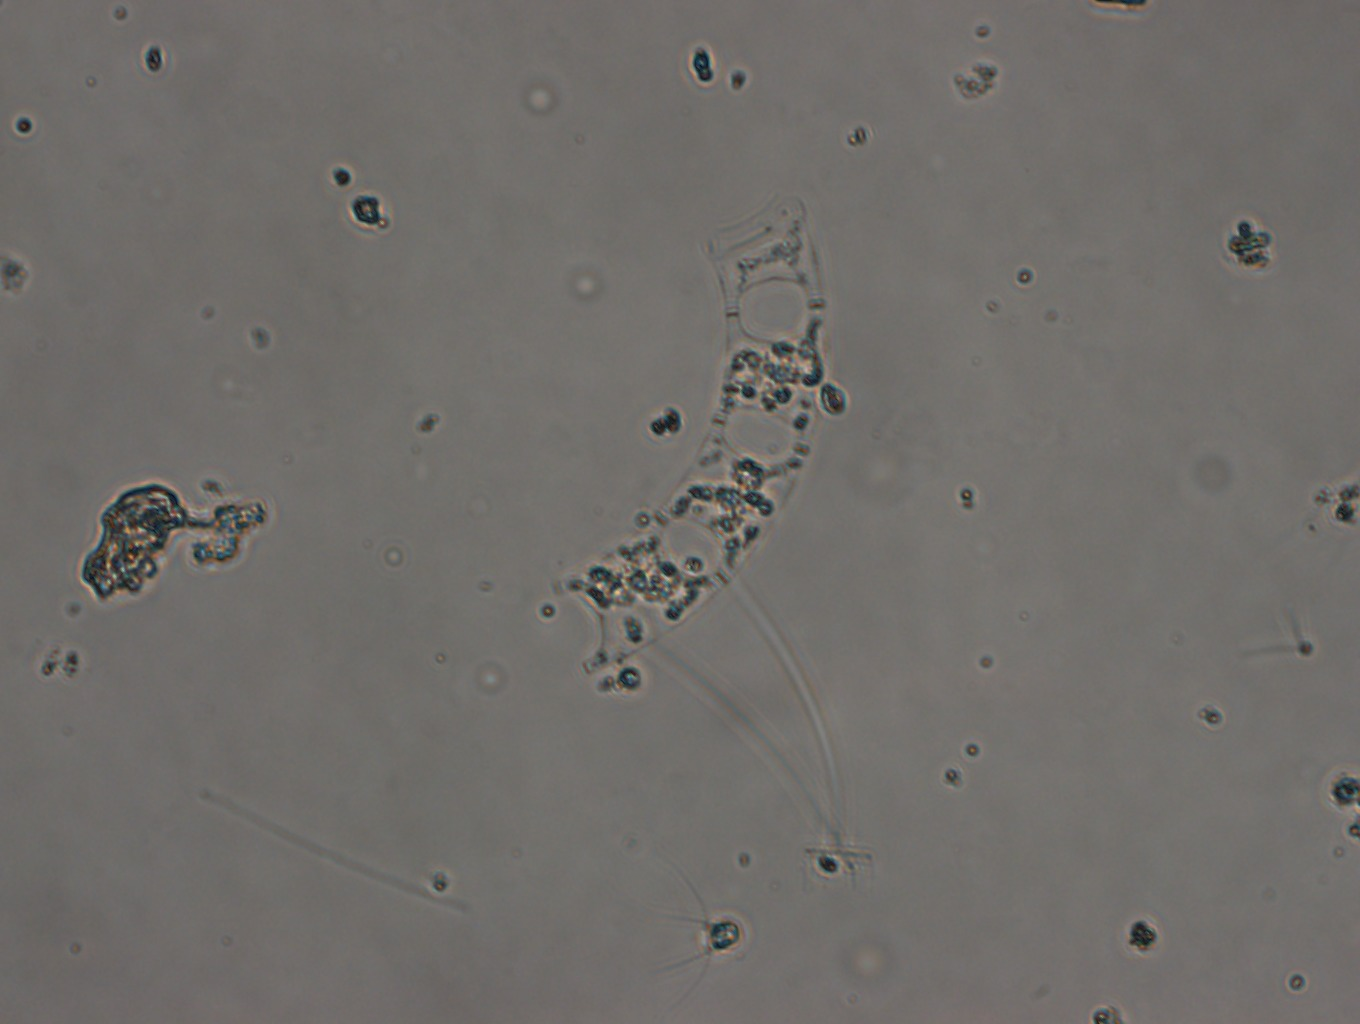eucampia: (559, 198, 825, 689)
